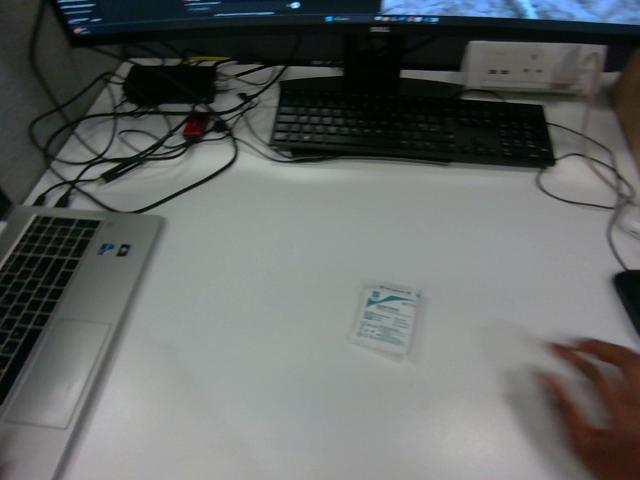gauze: (349, 282, 420, 359)
